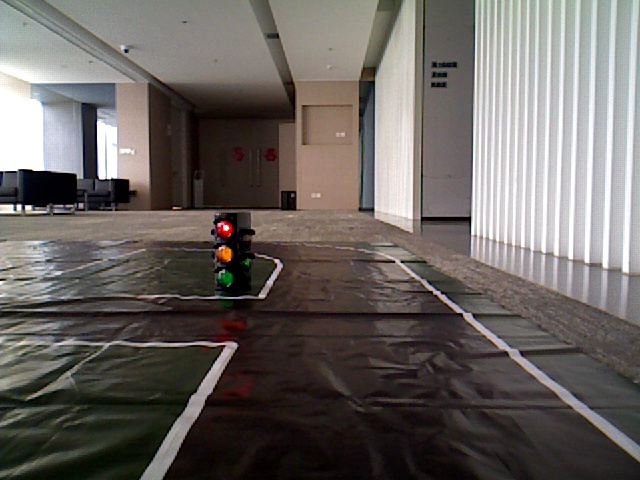red: (214, 217, 238, 286)
